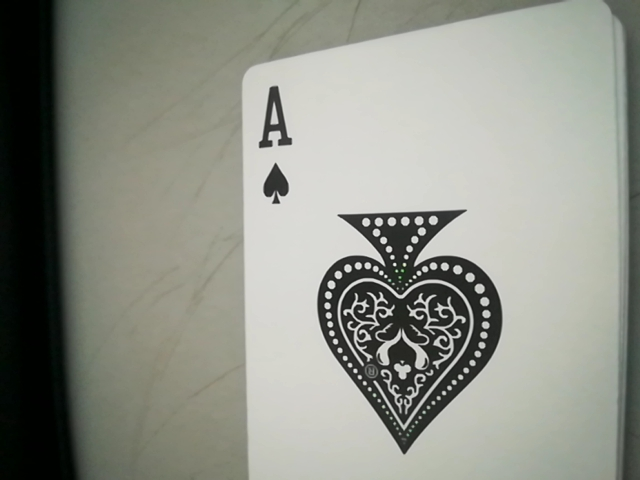ht a: (247, 81, 301, 214)
